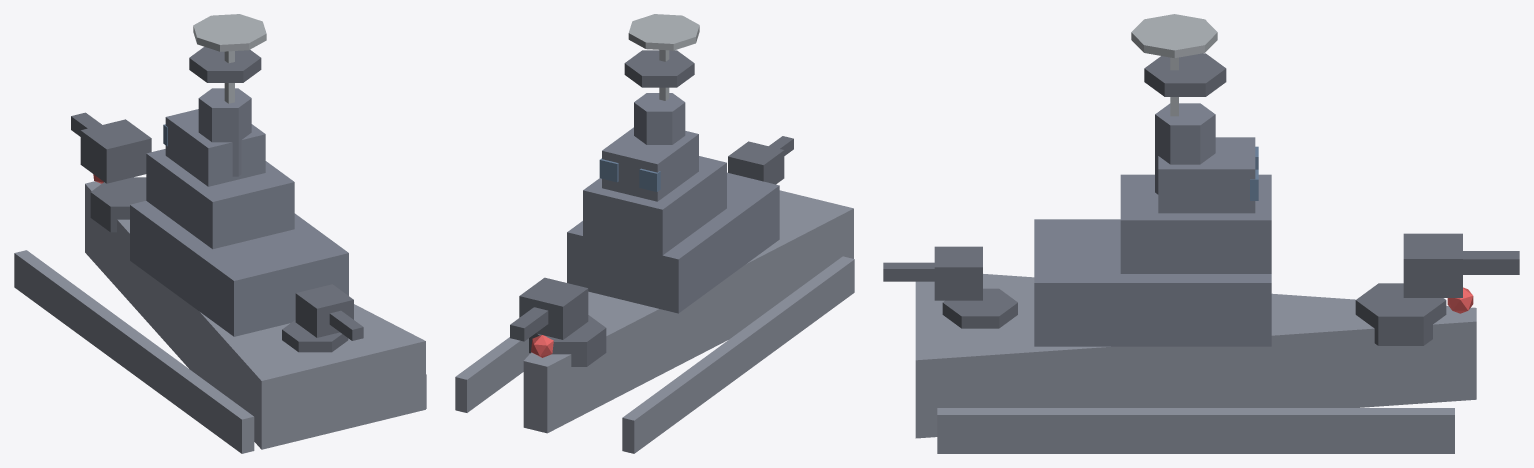
File: unit_warship.glb
The picture shows the model from 3 angles, left to right: view 1: azimuth 30°, elevation 25°; view 2: azimuth 150°, elevation 25°; view 3: azimuth 270°, elevation 25°; orthographic projection. The views are drawn at different scales.
Parts seen in each view (by area): view 1: unit_warship; view 2: unit_warship; view 3: unit_warship.
Boxes of the visible parts, x1,y1,x2,y2 form: unit_warship: (14,14,426,453); unit_warship: (455,14,854,453); unit_warship: (883,14,1519,453).
Size of the model in its own units: 0.225 by 0.379 by 0.59.
